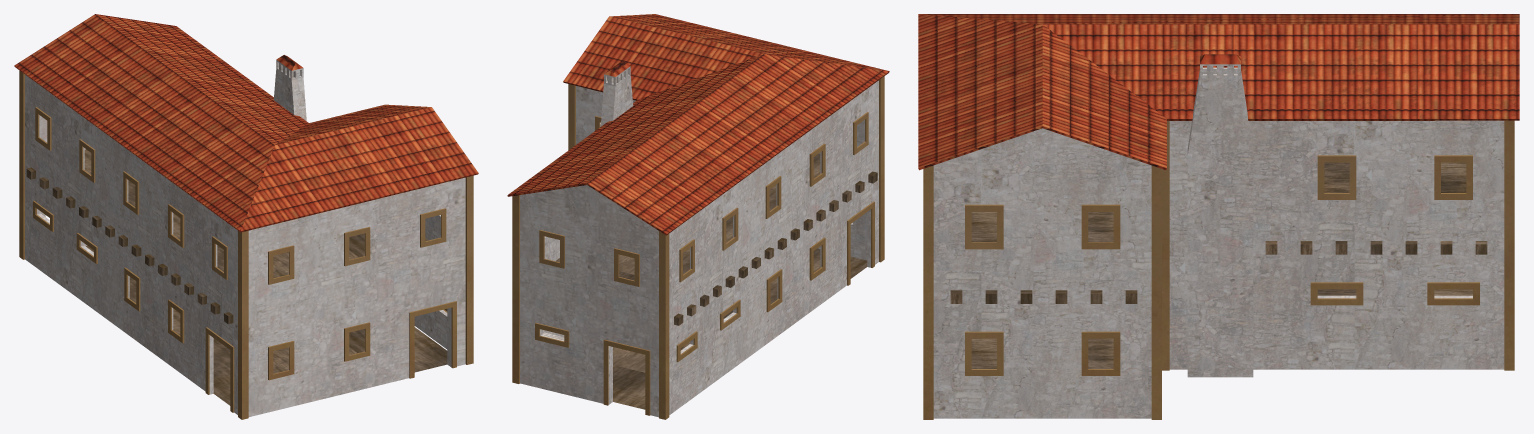
Rendered from house_2.glb.
3 views of the same model, side by side, from view 1: azimuth 30°, elevation 25°; view 2: azimuth 150°, elevation 25°; view 3: azimuth 270°, elevation 25° (orthographic). The views are drawn at different scales.
Visible parts, largest first — view 1: Cube.021_0; view 2: Cube.021_0; view 3: Cube.021_0.
Boxes of the visible parts, x1,y1,x2,y2 form: Cube.021_0: [14, 14, 478, 419]; Cube.021_0: [507, 14, 889, 419]; Cube.021_0: [918, 14, 1519, 419].
Bounding box in the file's own units: 3.92 × 3.77 × 6.45.
Materials: 4 (4 with a texture image).
